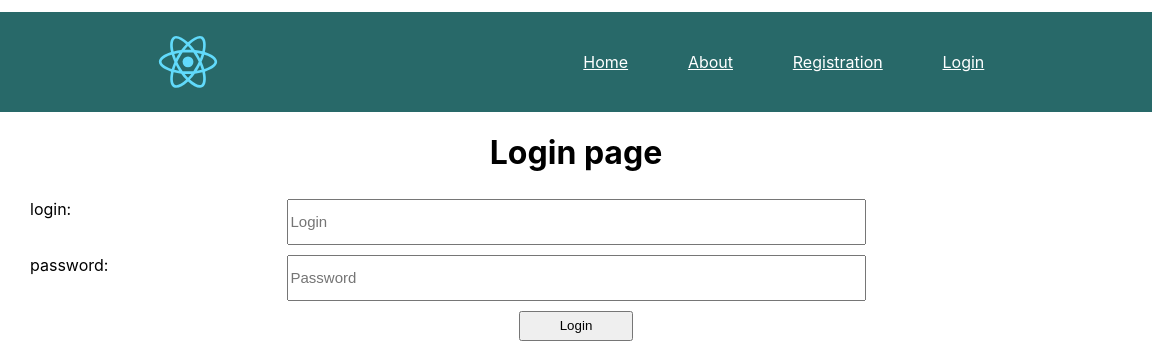
Test: Cypress tests › authorization fail
Type "الْأَبْجَدِيَّة الْعَرَبِيَّة" into the field with id "input-login" at (577, 222), box [287, 199, 866, 245]
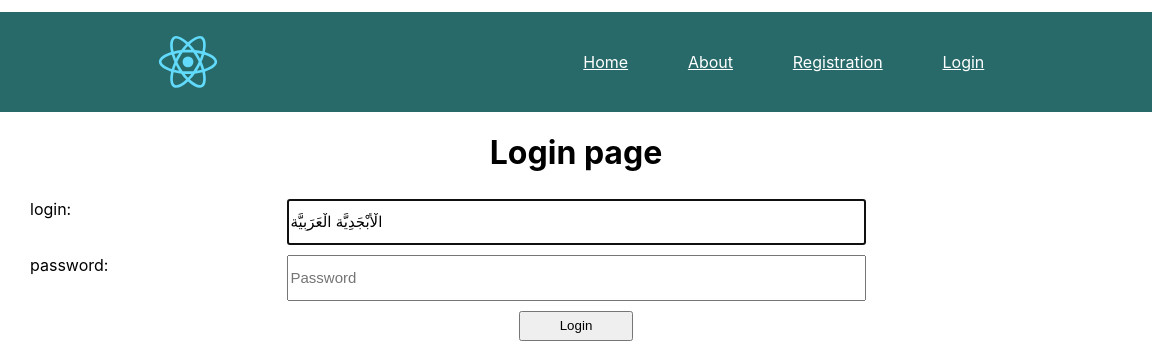
Type "الْحُرُوف الْعَرَبِيَّة" into the password field with id "input-password" at (577, 278), box [287, 255, 866, 301]
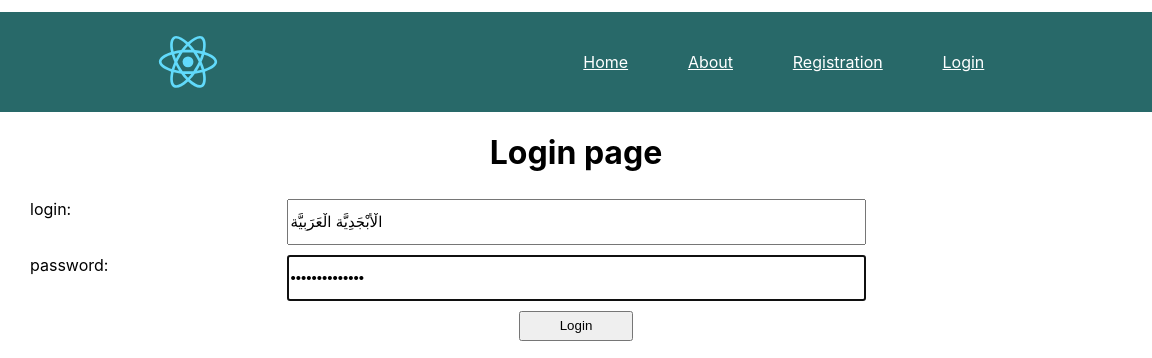
Click the button with id "submit-button" at (576, 326), box [519, 311, 633, 341]
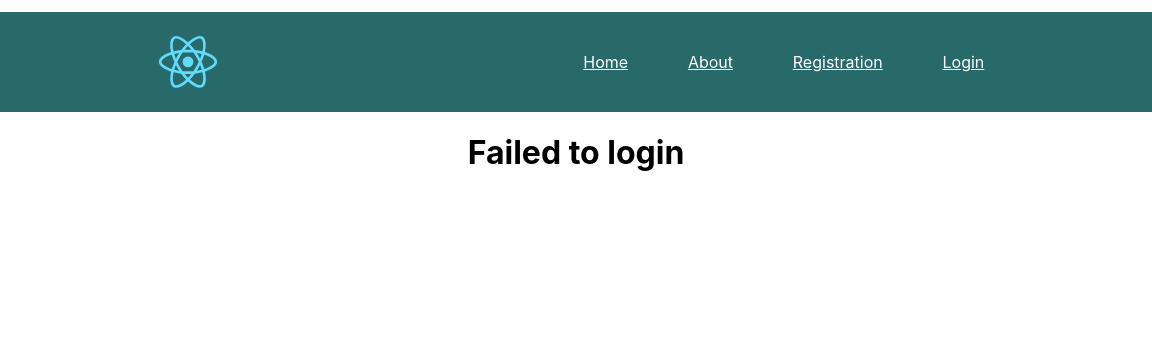
Result: the heading "Failed to login" is shown at [468, 133, 684, 172]
